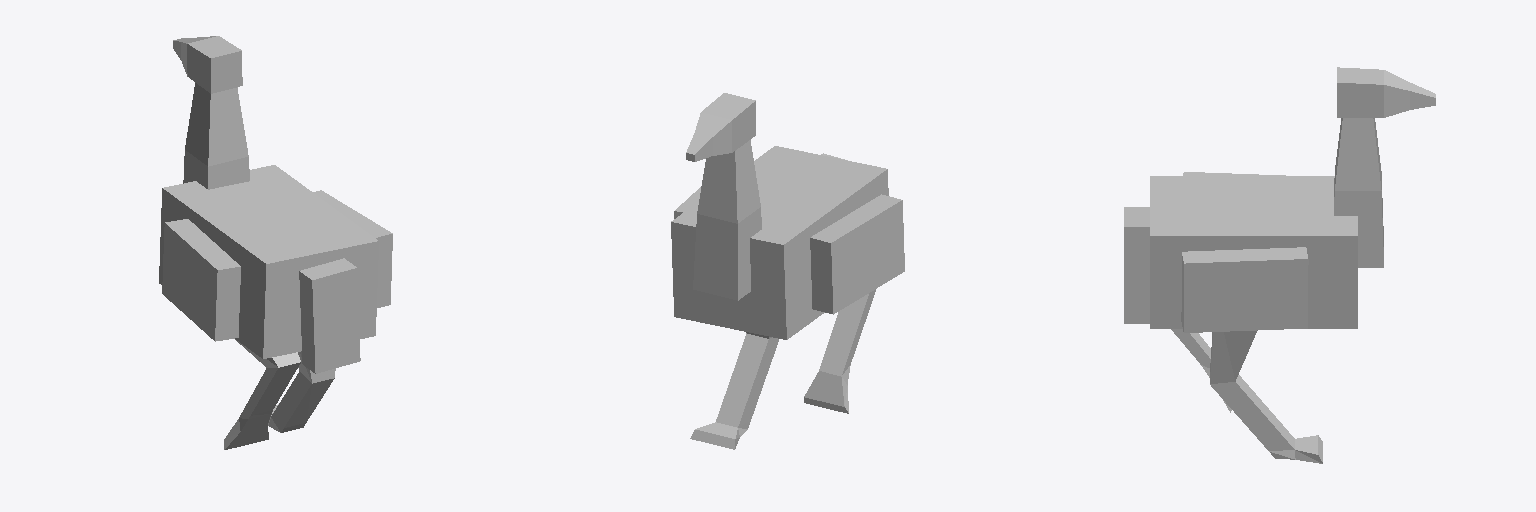
The model's file is Ostrich_000191.obj.
3 views of the same model, side by side, from view 1: azimuth 30°, elevation 25°; view 2: azimuth 150°, elevation 25°; view 3: azimuth 270°, elevation 25° (orthographic).
Parts seen in each view (by area): view 1: Cube_Cube.001; view 2: Cube_Cube.001; view 3: Cube_Cube.001.
Boxes of the visible parts, <box> form: Cube_Cube.001: <box>159,36,392,449</box>; Cube_Cube.001: <box>671,93,904,449</box>; Cube_Cube.001: <box>1124,67,1435,463</box>.
Size of the model in its own units: 0.7894 by 1.53 by 1.2.